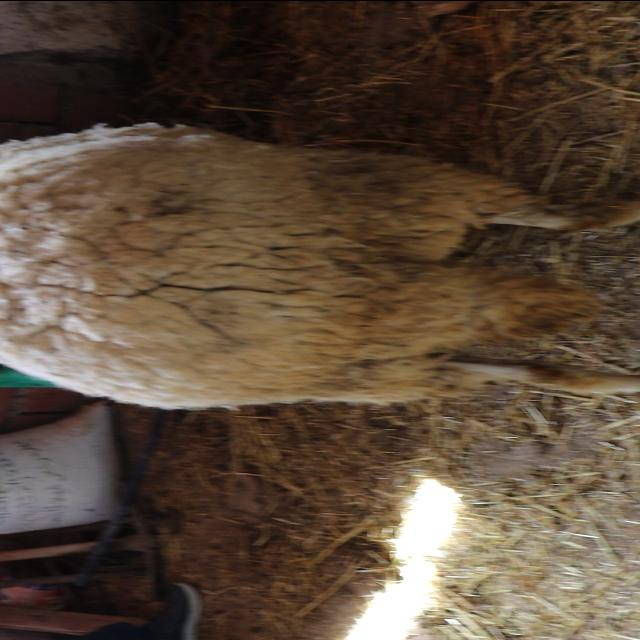Score_4: (0, 123, 639, 408)
